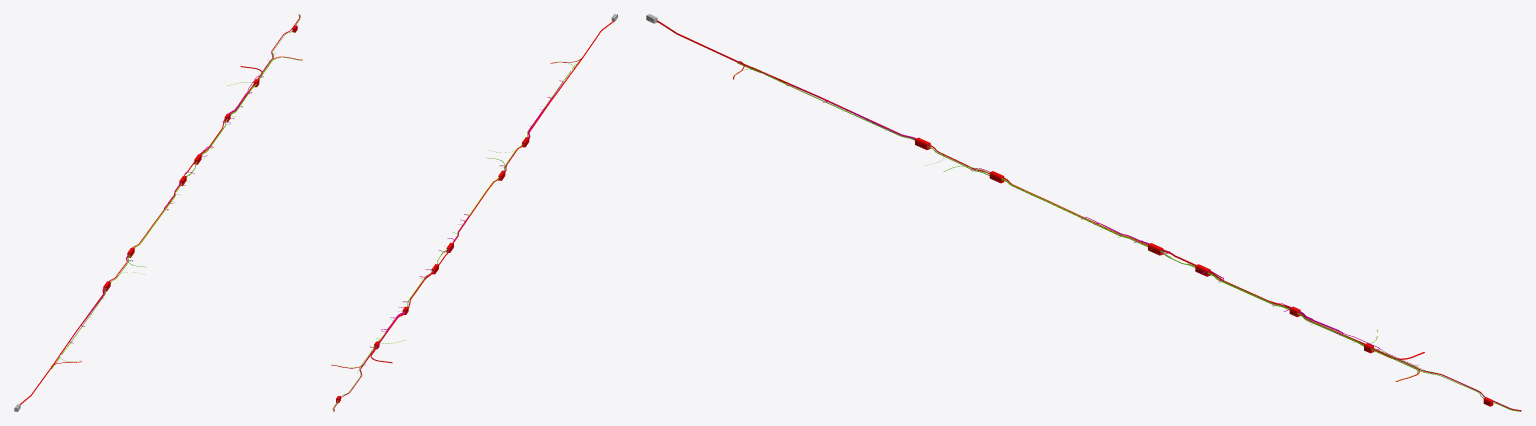
3 views of the same model, side by side, from view 1: azimuth 30°, elevation 25°; view 2: azimuth 210°, elevation 25°; view 3: azimuth 270°, elevation 25° (orthographic). The views are drawn at different scales.
Parts seen in each view (by area): view 1: model; view 2: model; view 3: model.
Boxes of the visible parts, x1,y1,x2,y2 form: model: (14, 14, 302, 411); model: (331, 14, 617, 411); model: (646, 14, 1521, 411).
Bounding box in the file's own units: 289 × 2.74 × 271.
